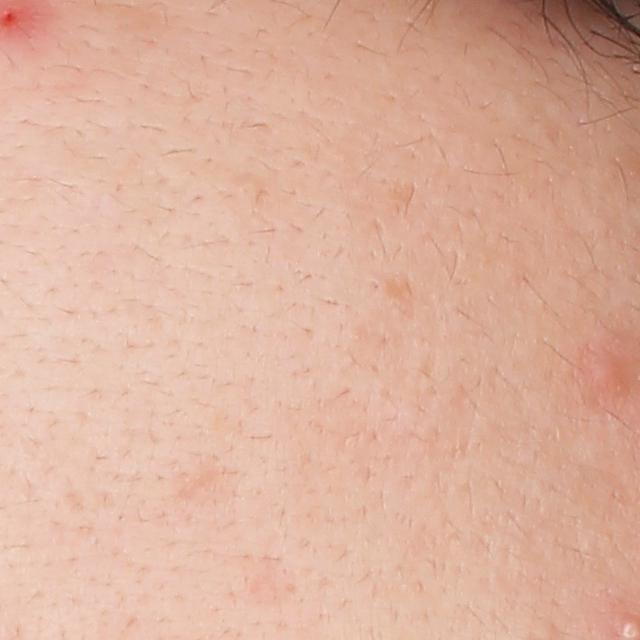papule: (587, 352, 640, 398)
